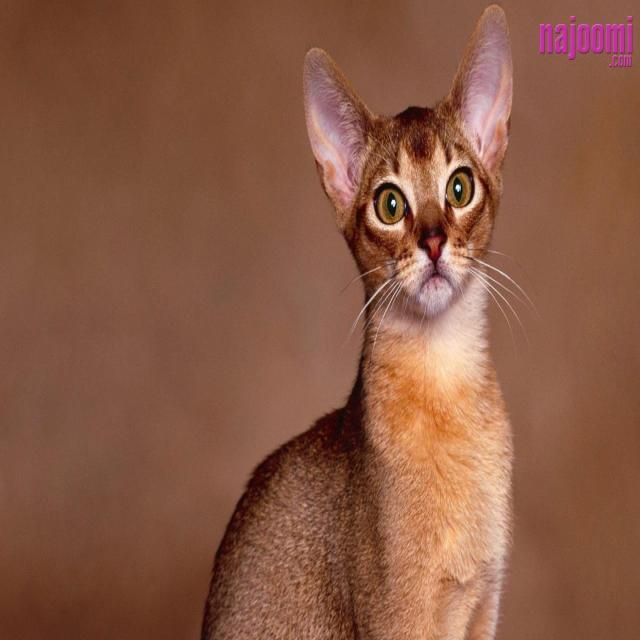Abyssinian: (299, 2, 516, 326)
